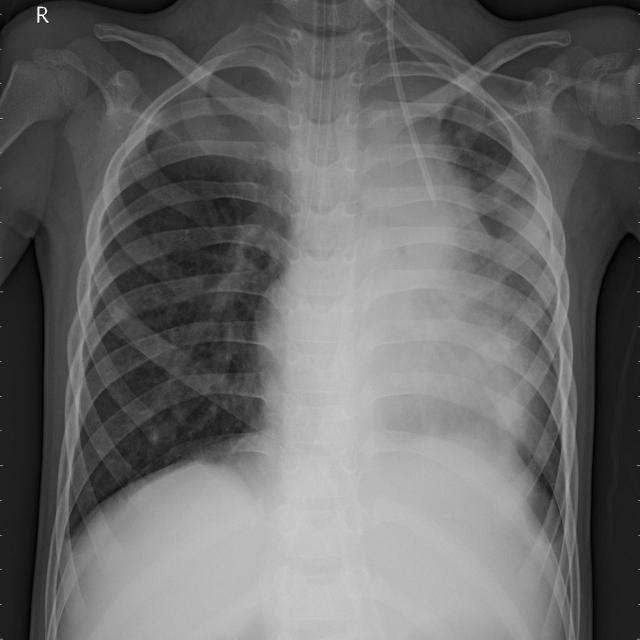low-pneumonia: (141, 33, 303, 259)
